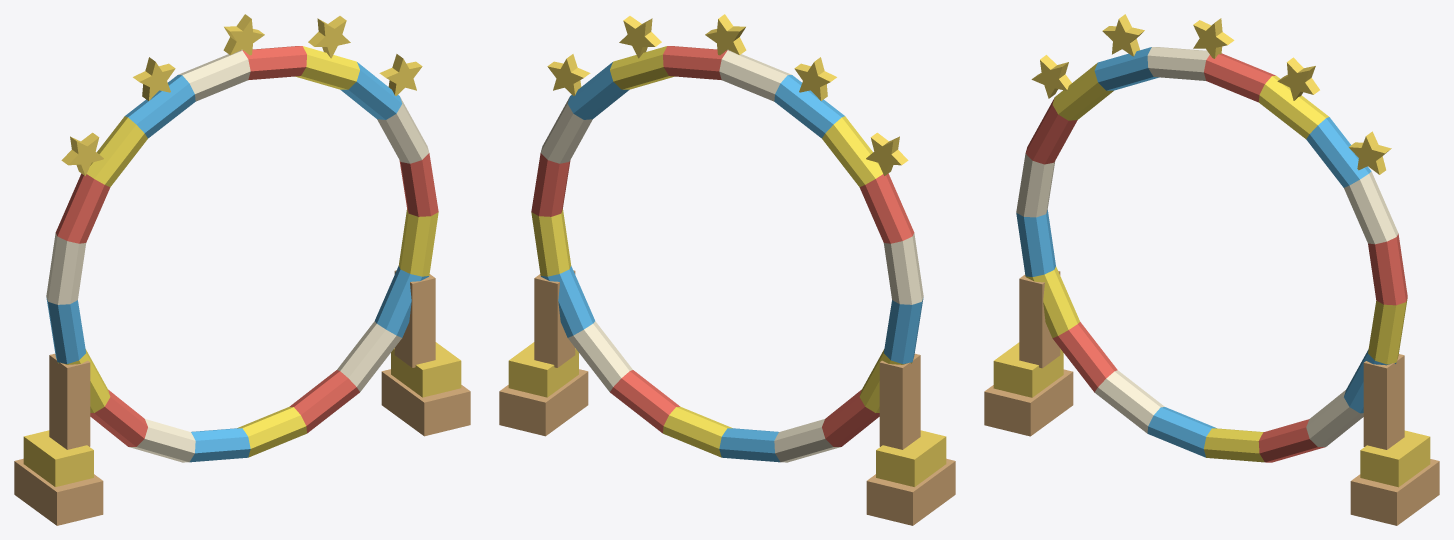
File: prop_carnival_hoop_6m.glb
3 views of the same model, side by side, from view 1: azimuth 30°, elevation 25°; view 2: azimuth 150°, elevation 25°; view 3: azimuth 330°, elevation 25° (orthographic).
Visible parts, largest first — view 1: Mesh_Carnival_Hoop; view 2: Mesh_Carnival_Hoop; view 3: Mesh_Carnival_Hoop.
Part boxes in pixels (left/top/right/bottom): Mesh_Carnival_Hoop: left=14, top=14, right=470, bottom=525; Mesh_Carnival_Hoop: left=499, top=14, right=955, bottom=525; Mesh_Carnival_Hoop: left=984, top=14, right=1439, bottom=525.
Size of what is drawn, in the model's own units: 6.42 by 6.56 by 1.15.
